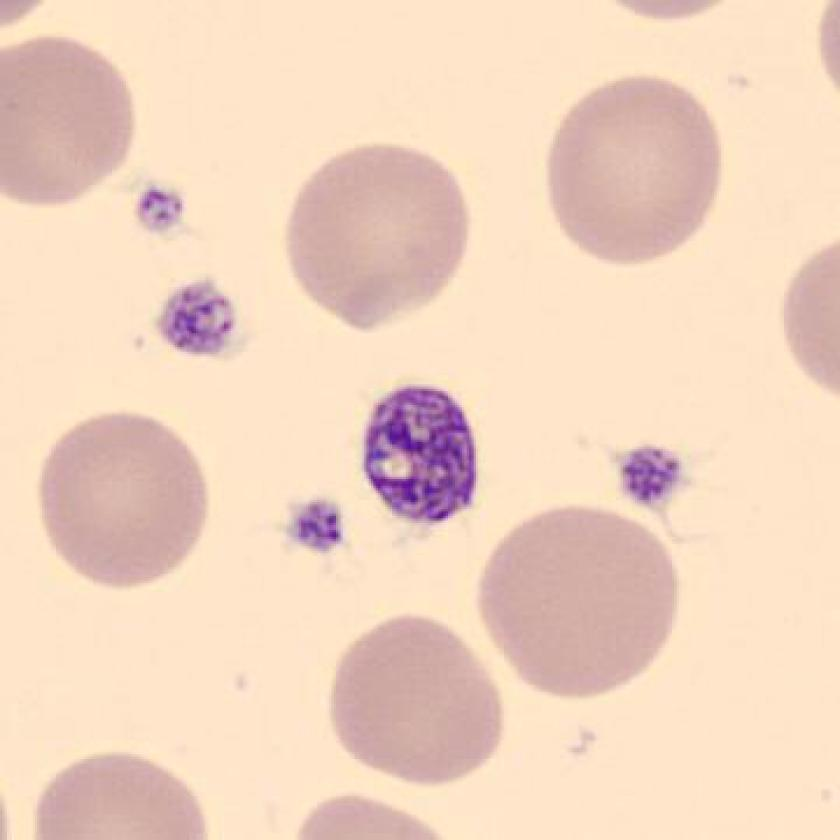platelets: (349, 378, 489, 536), (146, 269, 246, 369), (598, 436, 699, 519), (279, 485, 356, 570), (125, 170, 192, 246)
